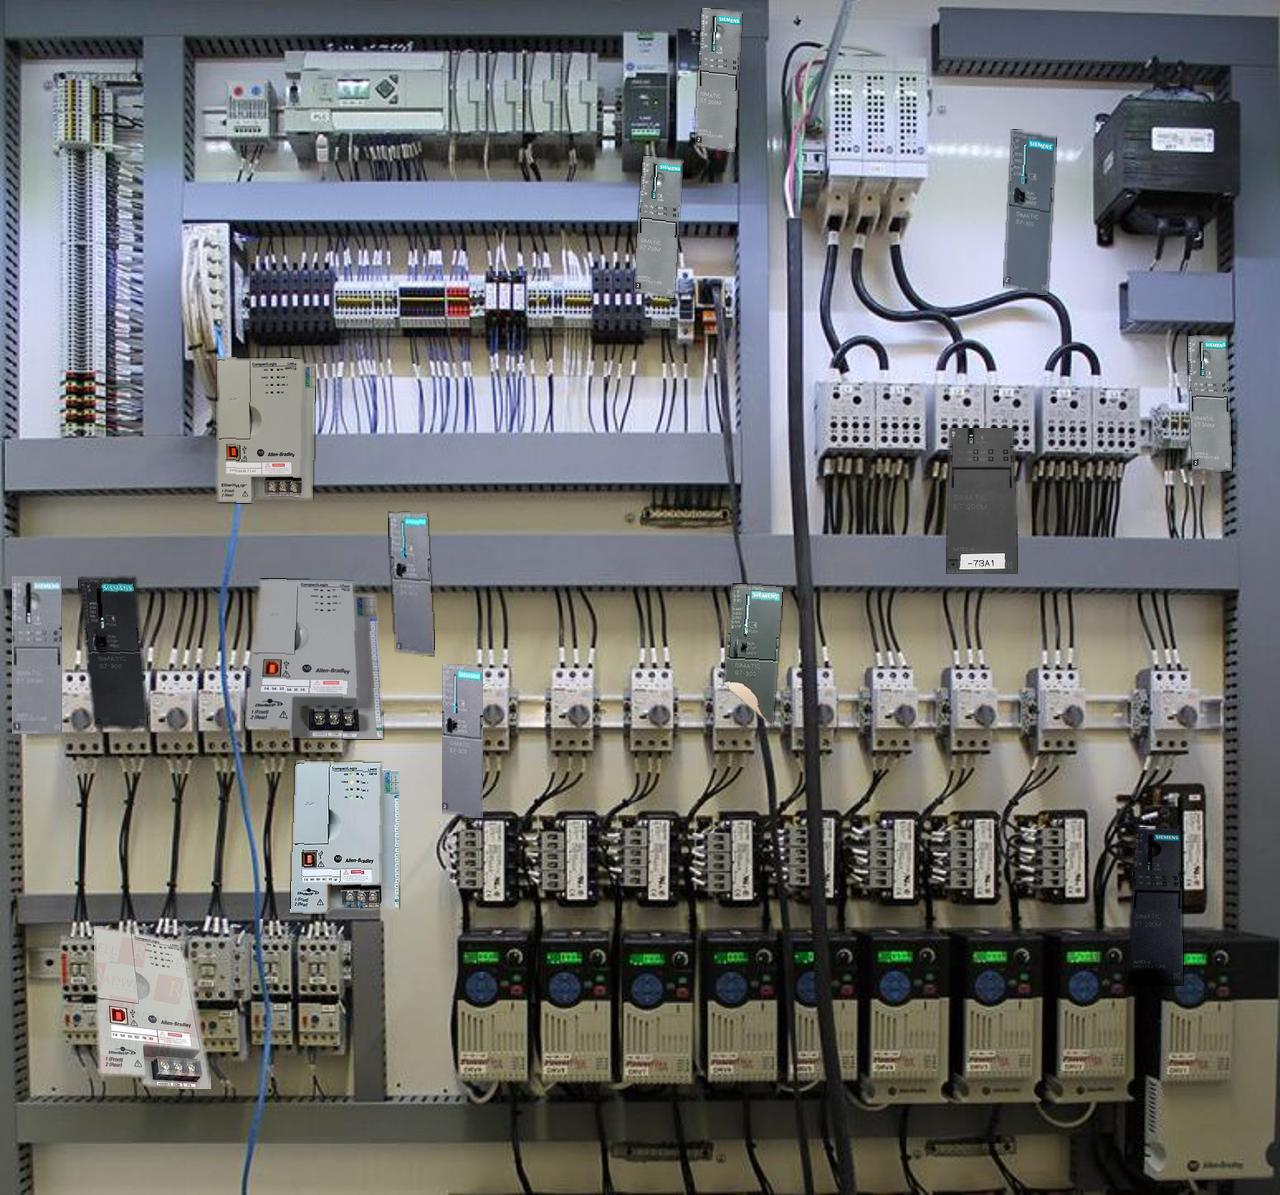AllenBradley: (245, 580, 382, 738), (94, 925, 210, 1088), (290, 761, 399, 913), (217, 358, 314, 502)
Siemens: (79, 577, 146, 727), (1004, 130, 1055, 294), (724, 583, 781, 726), (388, 513, 435, 654), (442, 664, 482, 817)
